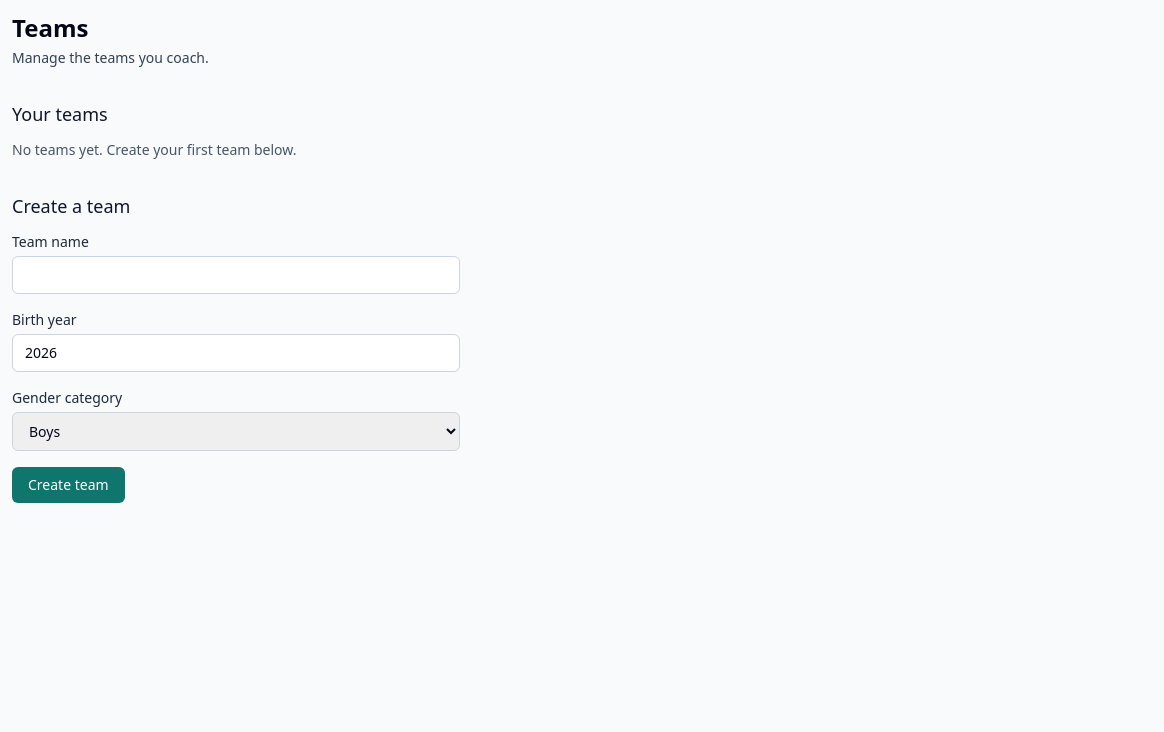
Test: TeamsPage › creates a team and reloads the list
Expected: the text "No teams yet. Create your first team below." is shown, x1=12 y1=140 x2=296 y2=159
Type "IFK Testby" into the field labelled "Team name" at x=236, y=275, box x1=12 y1=256 x2=460 y2=294
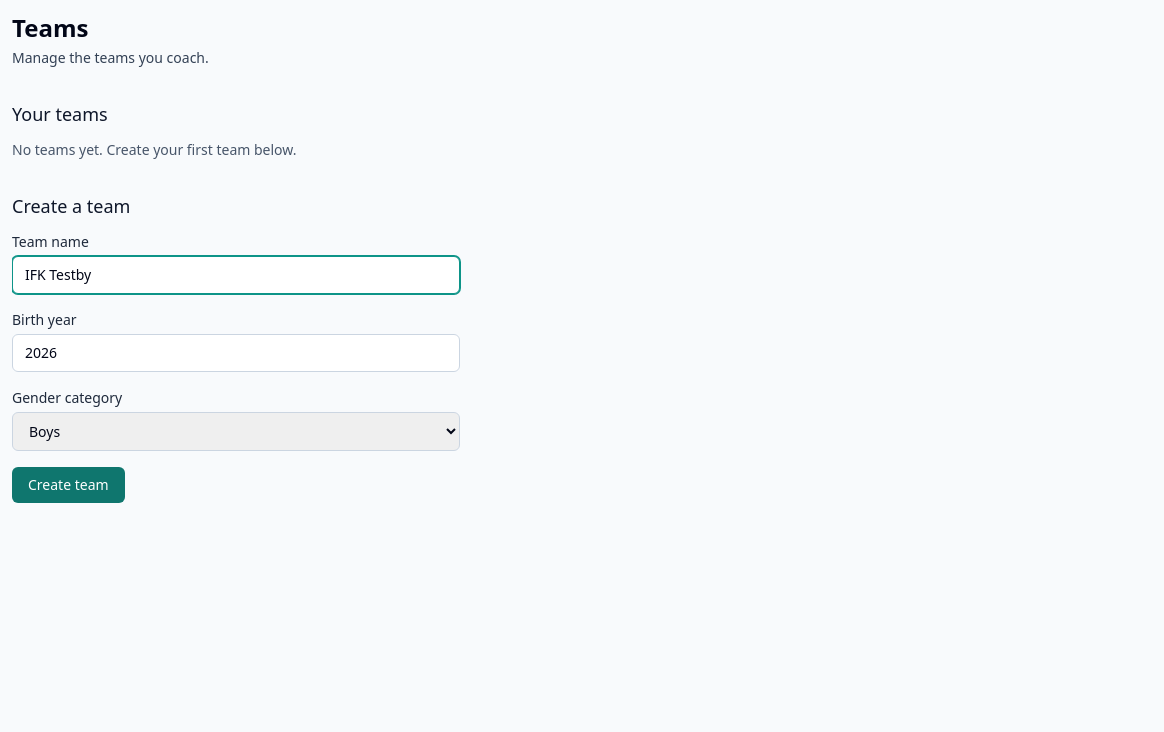
Replace the text in the number field labelled "Birth year" with "2019" at x=236, y=353, box x1=12 y1=334 x2=460 y2=372
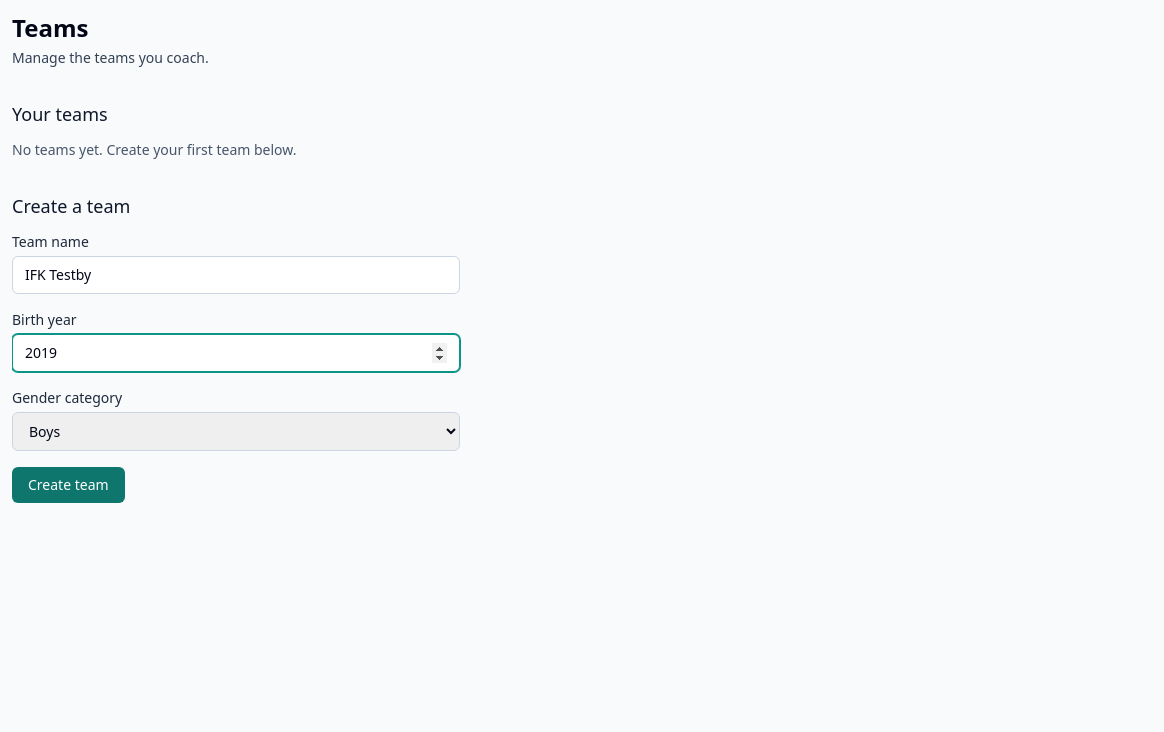
Click the button "Create team" at x=68, y=485, box x1=12 y1=467 x2=125 y2=503
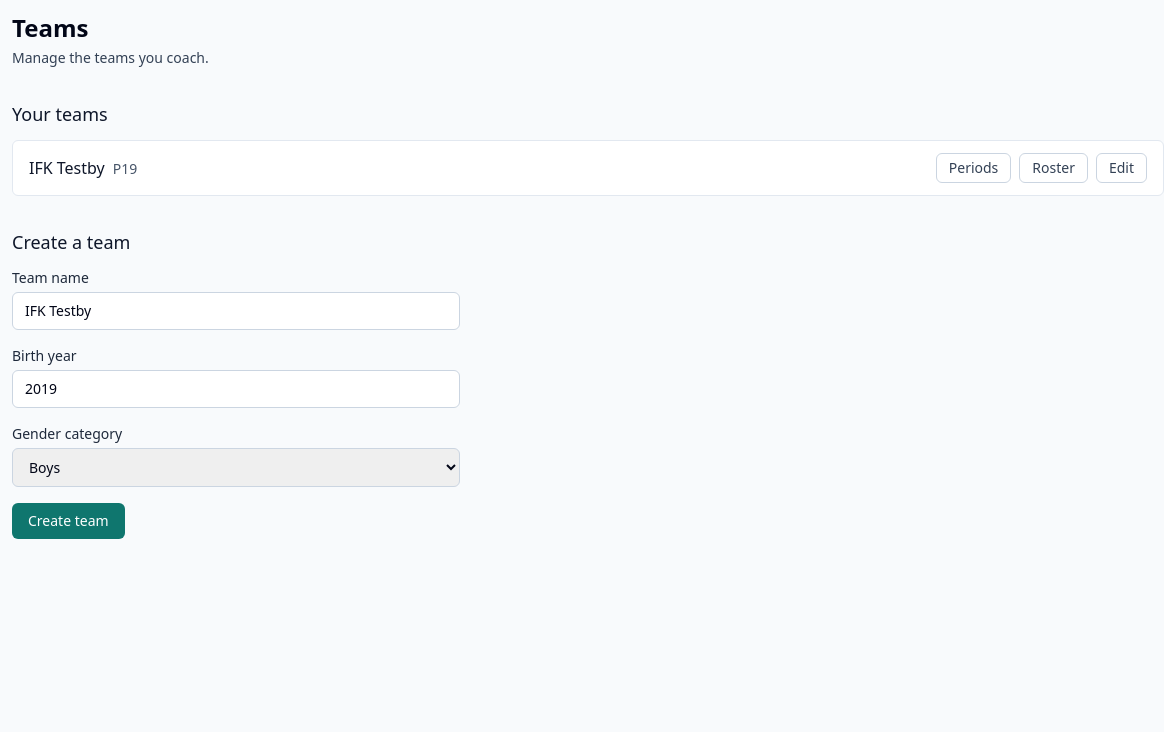
Expected: the text "IFK Testby" is shown, x1=29 y1=157 x2=105 y2=179
